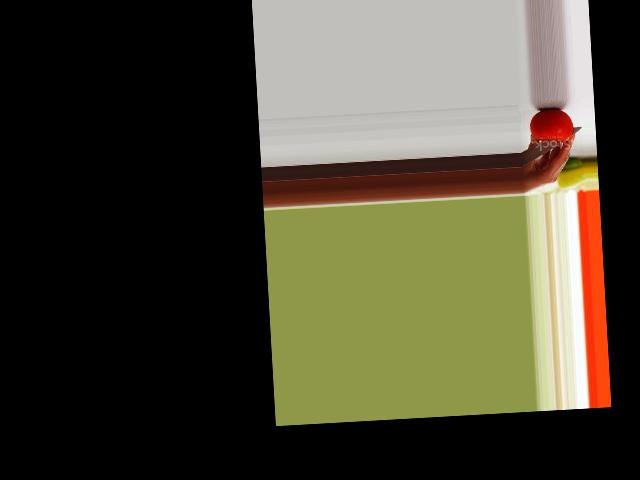tomato: (528, 107, 574, 143)
